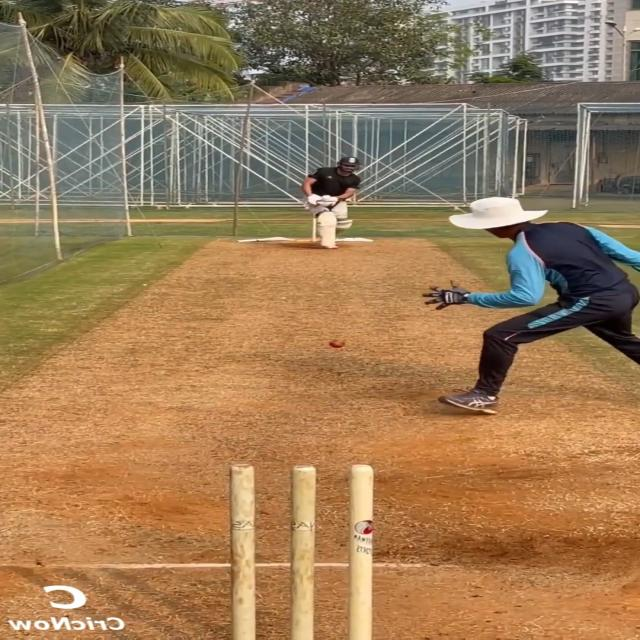ball: (328, 338, 346, 348)
stump: (223, 460, 376, 640)
